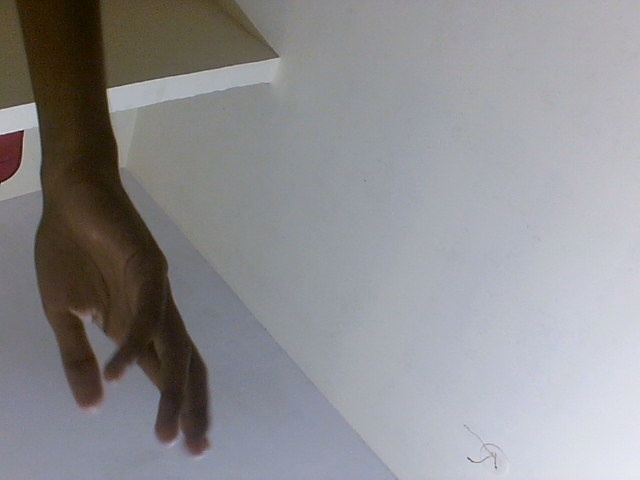hand: (24, 190, 226, 462)
